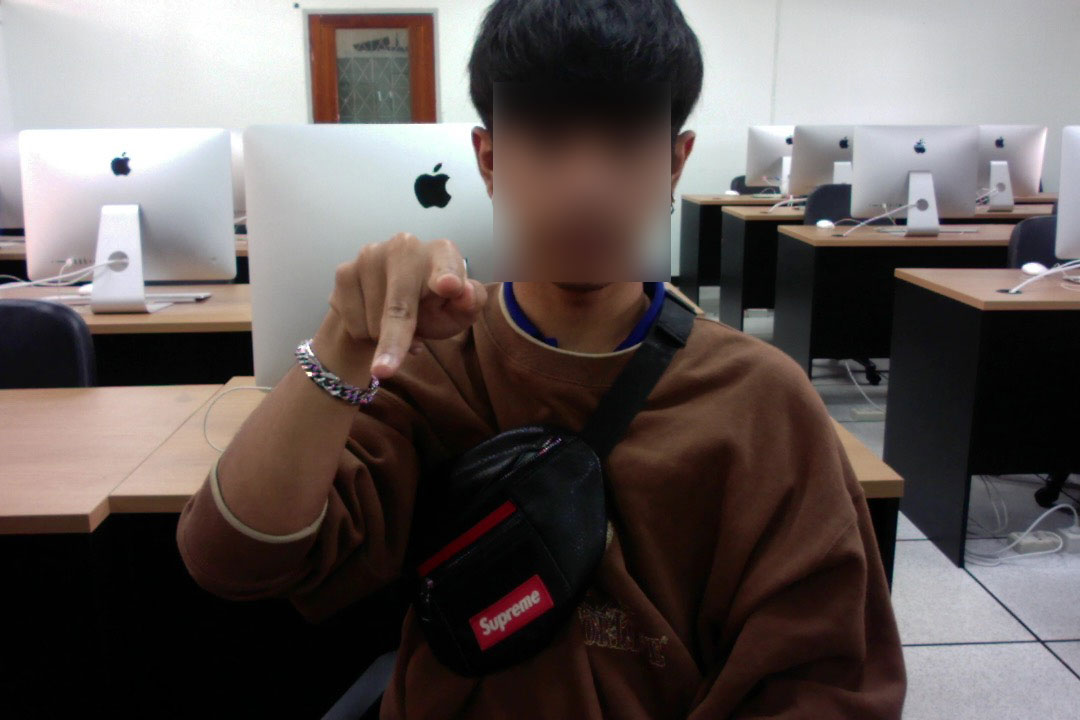por: (316, 223, 494, 383)
